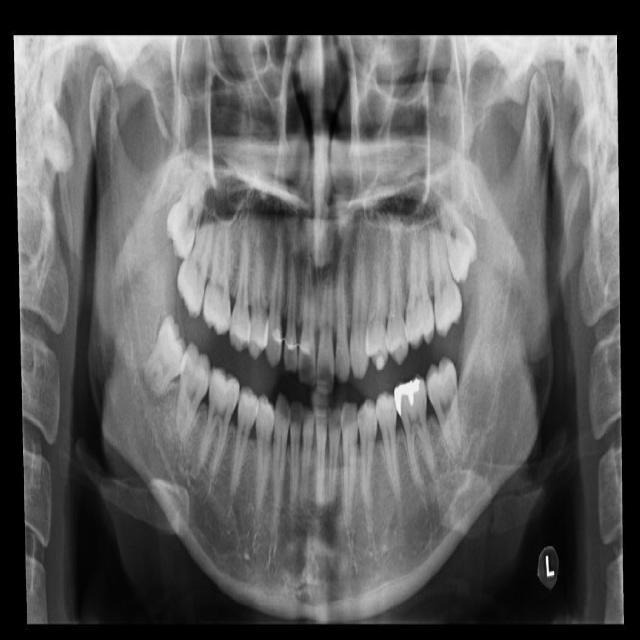3M ESPE Implant: (159, 157, 214, 261)
52: (386, 371, 437, 425), (360, 318, 394, 374)
73: (617, 612, 625, 626)
BioHorizons Implant: (426, 211, 465, 338)
BioLife Implant: (428, 173, 485, 286)
Blue Sky Bio Implant: (423, 352, 465, 463)
Caries: (171, 186, 221, 320)
Implant: (170, 341, 215, 447)
Keystone Dental Implant: (139, 313, 200, 400)
